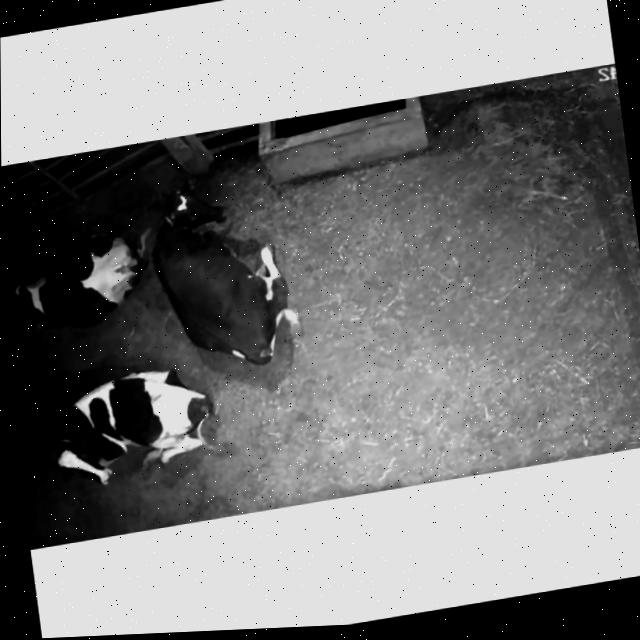lay: (135, 154, 310, 388), (35, 348, 226, 502), (2, 201, 161, 349)
